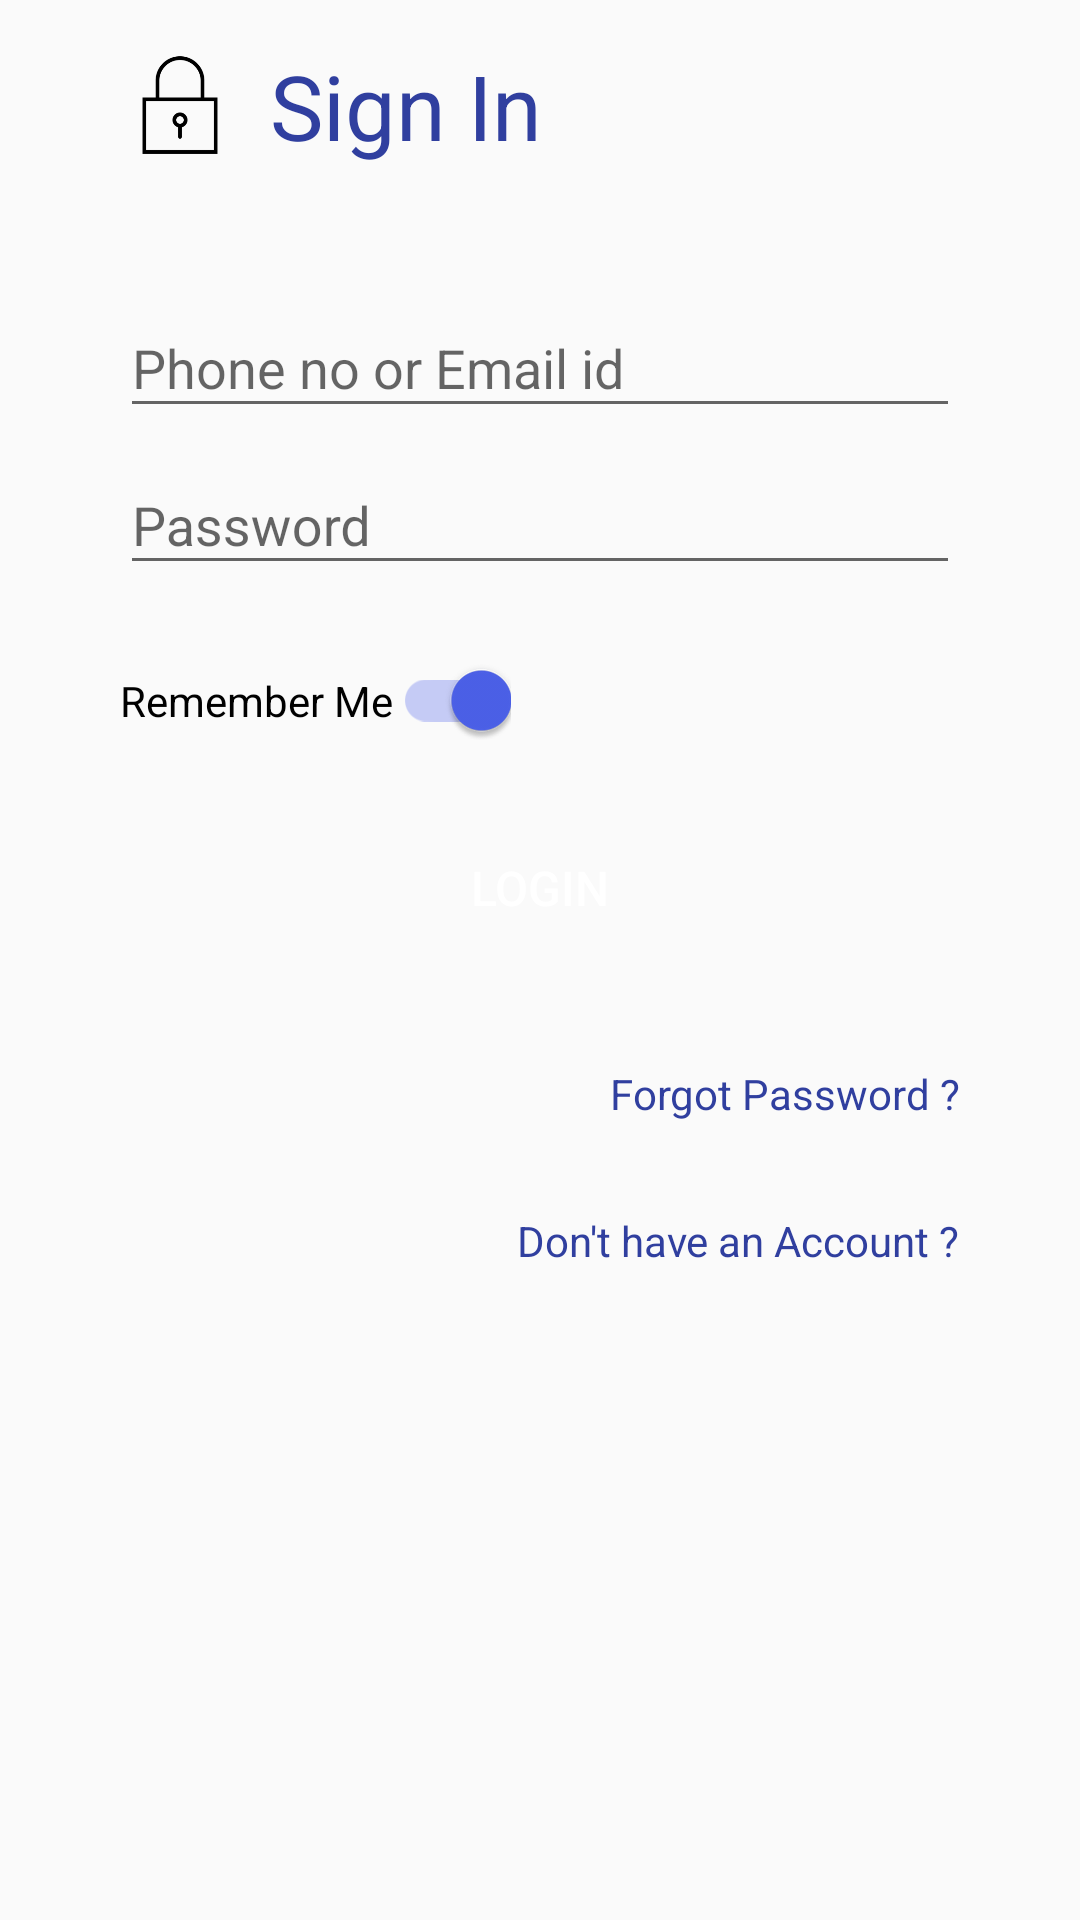

Named icons in this screenshot (1080px x 1920px) and their bounding boxes, (x1, y1, x2, y2):
locked: (142, 56, 218, 154)
